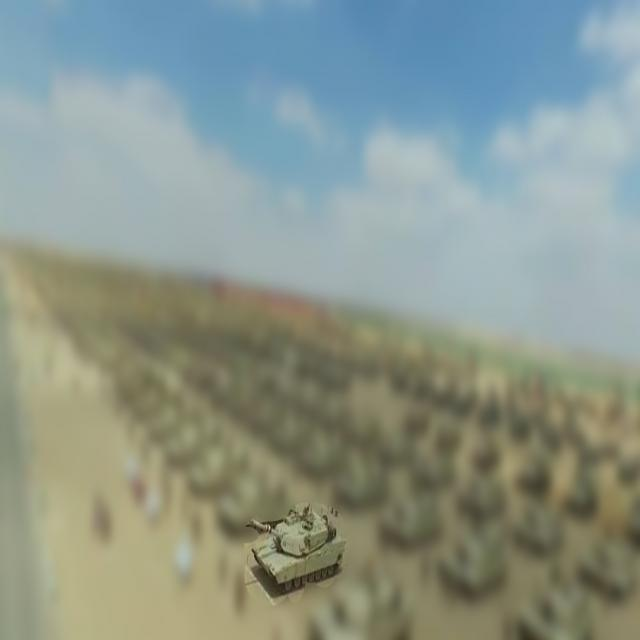tank: (245, 502, 349, 604)
